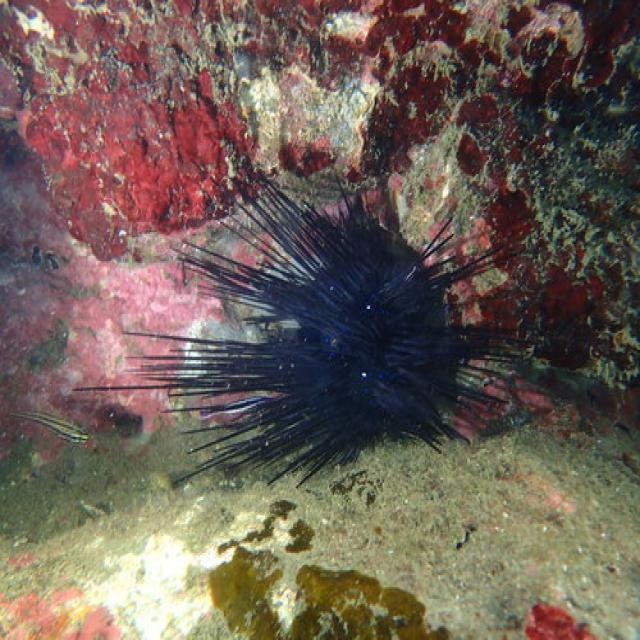Urchin: (68, 152, 538, 491)
